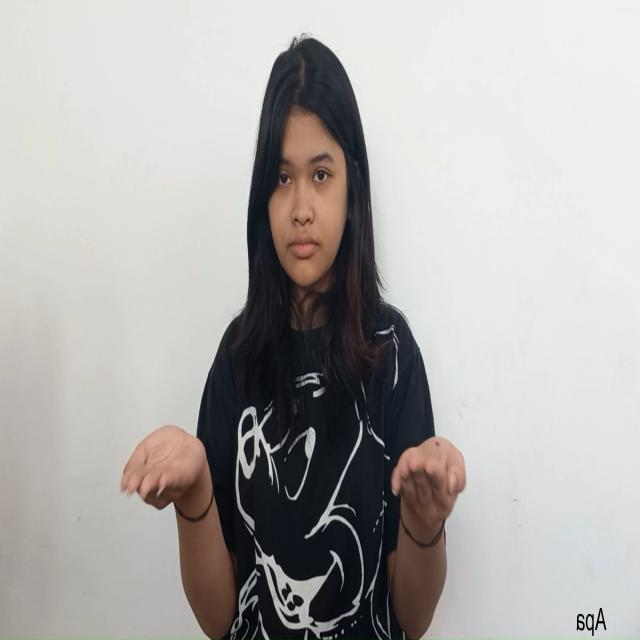Apa -BISINDO-: (118, 421, 468, 532)
